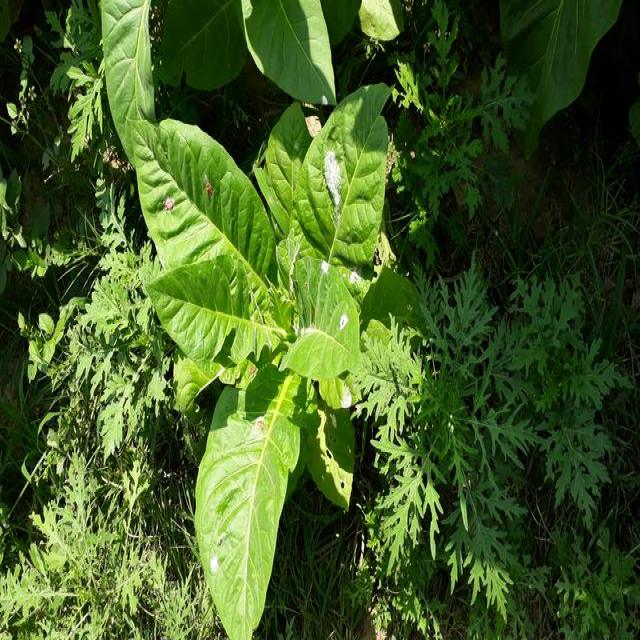crop: (124, 111, 383, 615), (98, 0, 342, 115)
